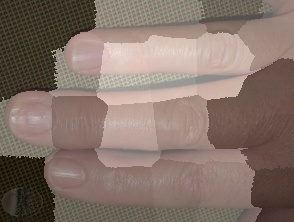Nail_psoriasis: (8, 106, 50, 131)
